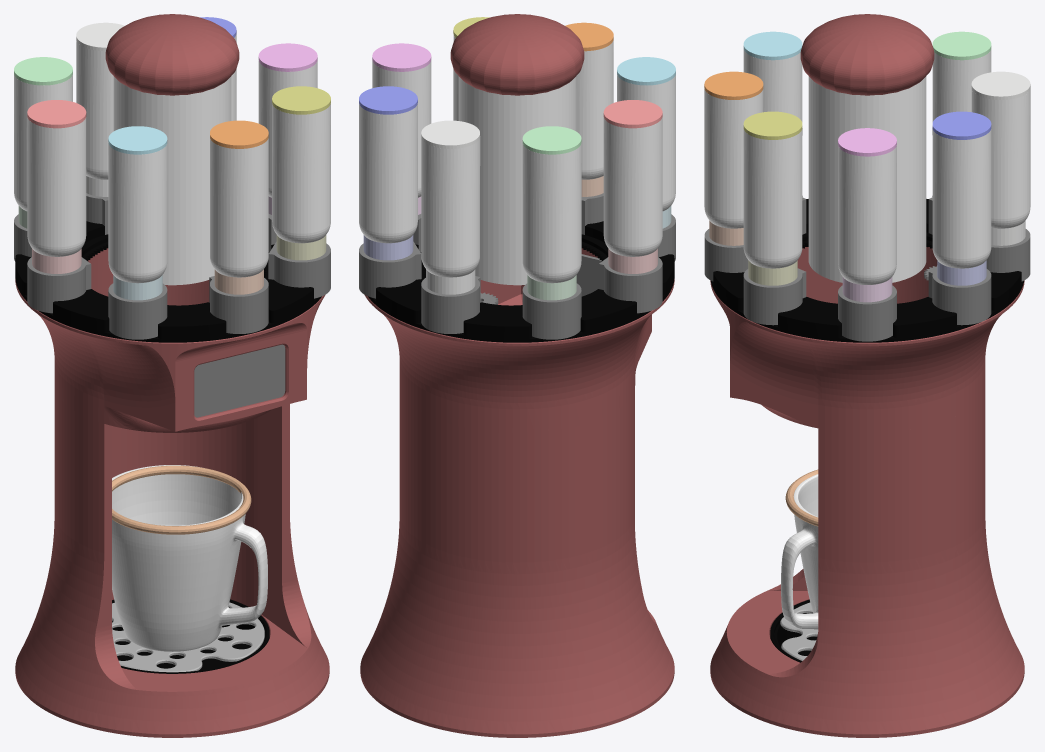
Rendered from machine.glb.
3 renders of one model, left to right at view 1: azimuth 30°, elevation 25°; view 2: azimuth 150°, elevation 25°; view 3: azimuth 270°, elevation 25°, orthographic.
Visible parts, largest first — view 1: body__Base, cup__Cup.obj, body__Electronics_housing, reservoir__glass, body__lid, tube__Körper49, tube__Körper48, tube__Körper51, tube__Körper50, drum__Revolver_drum, screen__Screen, tube__Körper46 (+21 smaller); view 2: body__Base, body__Electronics_housing, reservoir__glass, body__lid, tube__Körper47, tube__Körper48, tube__Körper46, tube__Körper45, drum__Revolver_drum, tube__Körper50, tube__Körper49, tube__Körper17 (+17 smaller); view 3: body__Base, body__Electronics_housing, reservoir__glass, body__lid, tube__Körper45, tube__Körper51, tube__Körper17, drum__Revolver_drum, tube__Körper46, tube__Körper50, cup__Cup.obj, tube__Körper47 (+21 smaller).
Boxes of the visible parts, x1=… form: body__Base: x1=15, y1=386, x2=329, y2=737; cup__Cup.obj: x1=112, y1=465, x2=267, y2=651; body__Electronics_housing: x1=15, y1=248, x2=325, y2=432; reservoir__glass: x1=113, y1=76, x2=231, y2=285; body__lid: x1=105, y1=14, x2=239, y2=95; tube__Körper49: x1=108, y1=142, x2=167, y2=283; tube__Körper48: x1=27, y1=117, x2=86, y2=256; tube__Körper51: x1=272, y1=103, x2=330, y2=243; tube__Körper50: x1=210, y1=138, x2=268, y2=277; drum__Revolver_drum: x1=15, y1=221, x2=321, y2=342; screen__Screen: x1=194, y1=344, x2=285, y2=417; tube__Körper46: x1=76, y1=40, x2=113, y2=179; body__Base: x1=360, y1=386, x2=674, y2=737; body__Electronics_housing: x1=364, y1=248, x2=674, y2=432; reservoir__glass: x1=458, y1=76, x2=576, y2=285; body__lid: x1=450, y1=14, x2=584, y2=95; tube__Körper47: x1=522, y1=144, x2=581, y2=283; tube__Körper48: x1=603, y1=117, x2=662, y2=256; tube__Körper46: x1=421, y1=136, x2=480, y2=277; tube__Körper45: x1=359, y1=103, x2=417, y2=243; drum__Revolver_drum: x1=368, y1=221, x2=674, y2=342; tube__Körper50: x1=576, y1=40, x2=613, y2=179; tube__Körper49: x1=617, y1=74, x2=675, y2=211; tube__Körper17: x1=372, y1=60, x2=431, y2=197; body__Base: x1=710, y1=386, x2=1024, y2=737; body__Electronics_housing: x1=710, y1=247, x2=1024, y2=432; reservoir__glass: x1=808, y1=76, x2=926, y2=282; body__lid: x1=800, y1=14, x2=934, y2=95; tube__Körper45: x1=932, y1=127, x2=991, y2=268; tube__Körper51: x1=743, y1=128, x2=802, y2=268; tube__Körper17: x1=838, y1=145, x2=896, y2=284; drum__Revolver_drum: x1=711, y1=199, x2=1023, y2=342; tube__Körper46: x1=971, y1=88, x2=1030, y2=228; tube__Körper50: x1=704, y1=88, x2=763, y2=228; cup__Cup.obj: x1=781, y1=474, x2=818, y2=629; tube__Körper47: x1=932, y1=49, x2=991, y2=121.
Size of the model in its own units: 1.66 by 3.63 by 1.66.
